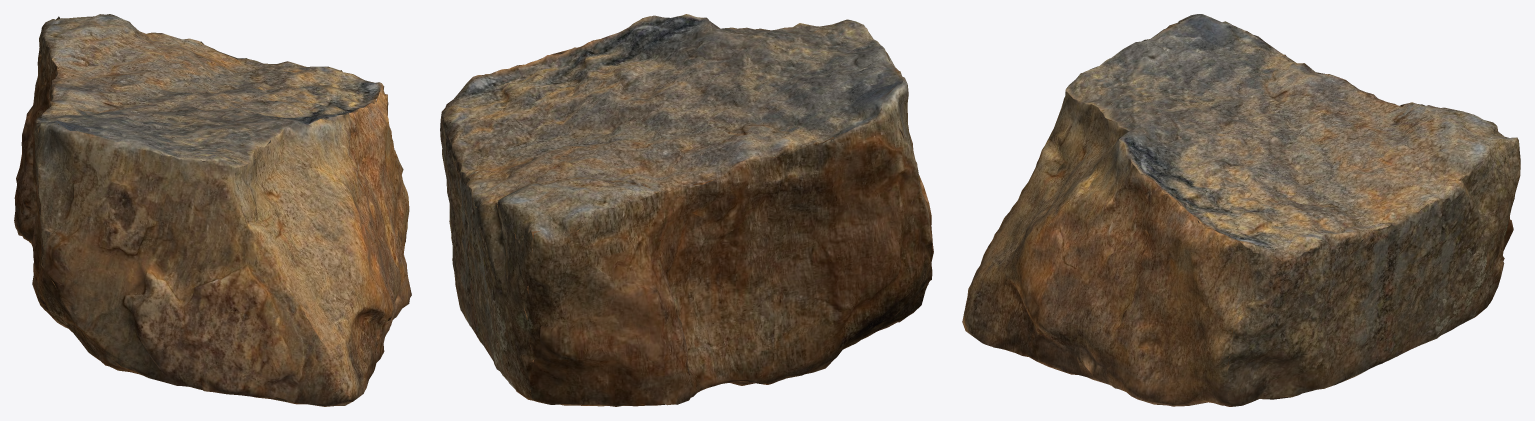
The model's file is pedra_b.glb.
3 views of the same model, side by side, from view 1: azimuth 30°, elevation 25°; view 2: azimuth 150°, elevation 25°; view 3: azimuth 270°, elevation 25° (orthographic). The views are drawn at different scales.
Parts seen in each view (by area): view 1: pedra_b; view 2: pedra_b; view 3: pedra_b.
Part boxes in pixels (<box>): pedra_b: <box>14,14,411,406</box>; pedra_b: <box>440,14,933,406</box>; pedra_b: <box>962,14,1520,406</box>.
Size of the model in its own units: 2.4 by 1.48 by 3.07.
1 material, 1 textured.
